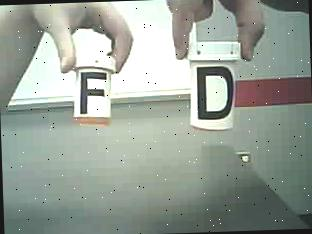Bottle D: (183, 36, 241, 136)
Bottle F: (68, 47, 118, 128)
